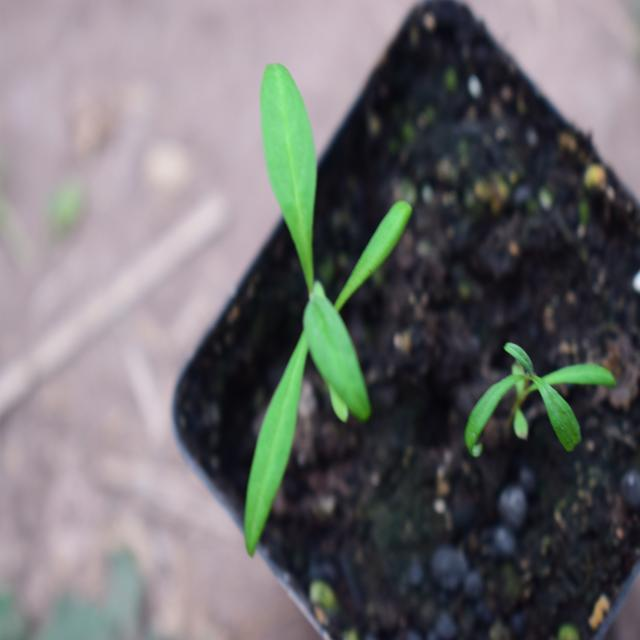white_smart_weed: (220, 32, 436, 583)
